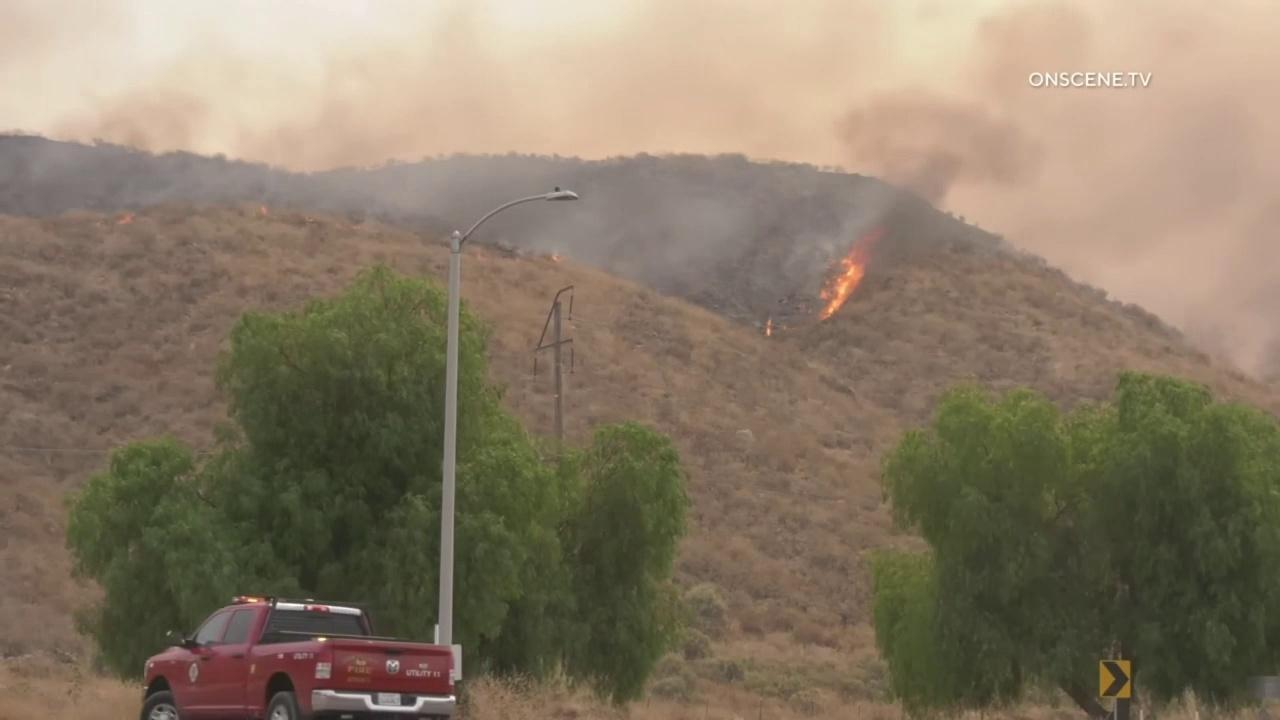fire: (813, 223, 889, 321), (118, 213, 132, 224), (765, 318, 772, 337), (259, 204, 268, 215), (550, 255, 559, 262)
smoke: (0, 0, 1280, 386)
